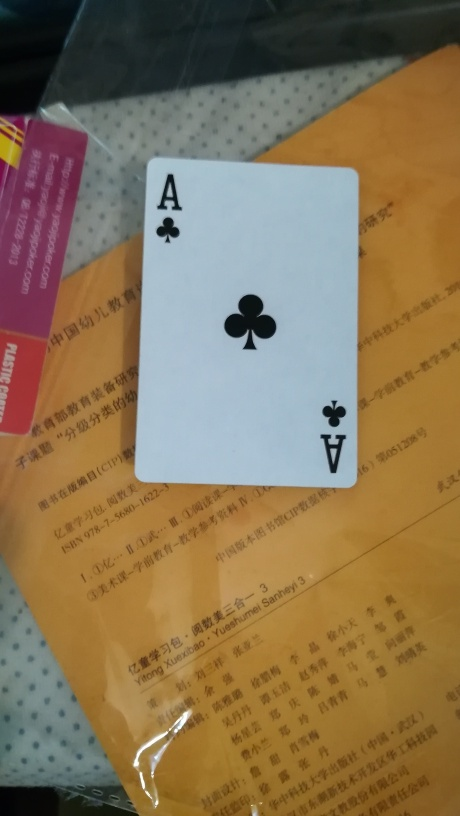mh a: (129, 156, 363, 491)
